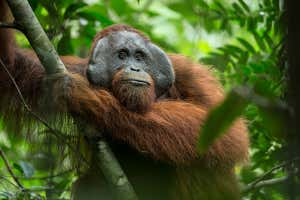Orangutan: (37, 22, 244, 195)
